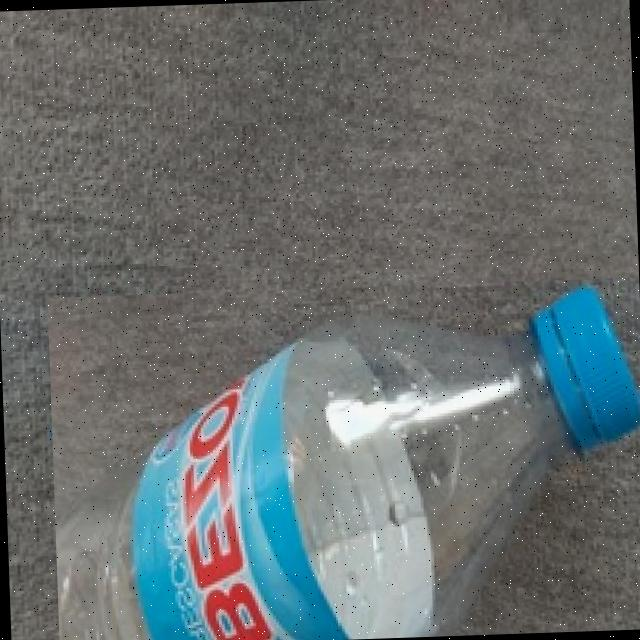bottle: (47, 277, 640, 640)
cap: (524, 284, 640, 461)
label: (109, 332, 351, 640)
